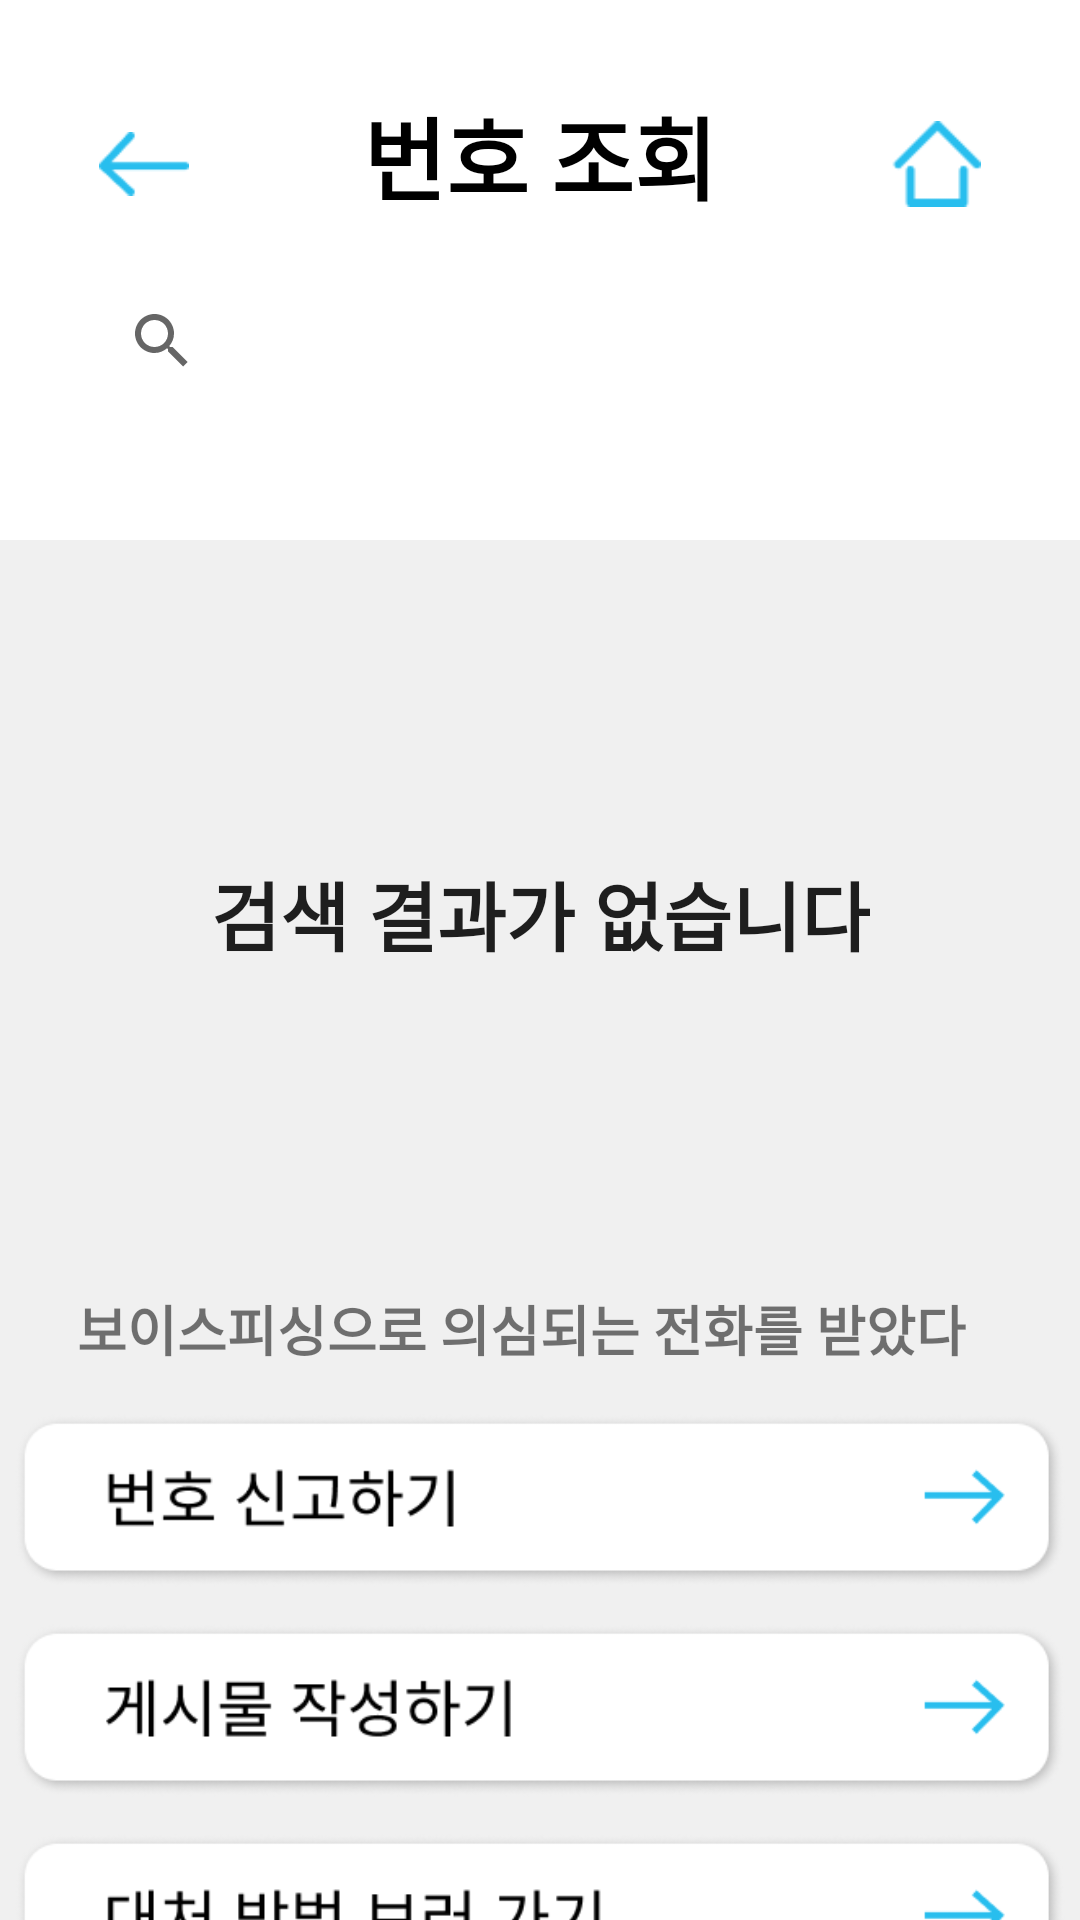

Icon bounding boxes for this 1080 x 1920 phone screenshot, format [x1,y1,x2,y2]:
backbtn: [99,132,189,196]
homebtn: [893,121,981,207]
